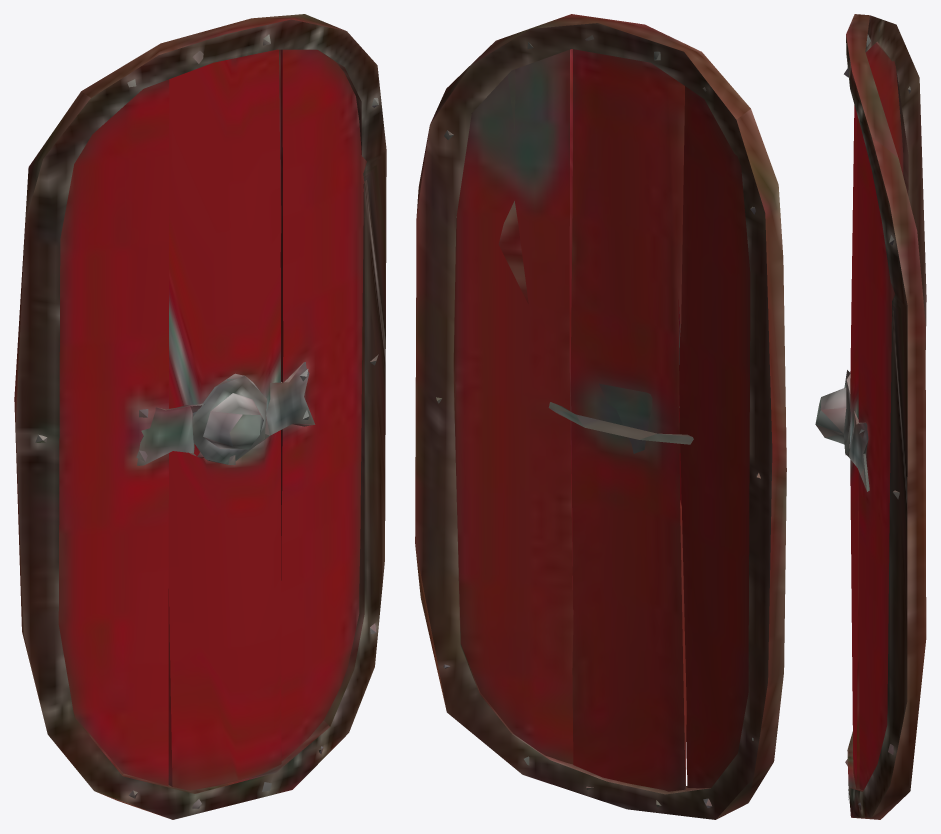
File: gear_roman_scutum_2.glb
3 renders of one model, left to right at view 1: azimuth 30°, elevation 25°; view 2: azimuth 150°, elevation 25°; view 3: azimuth 270°, elevation 25°, orthographic. The views are drawn at different scales.
Visible parts, largest first — view 1: MeshyGear_gear_roman_scutum; view 2: MeshyGear_gear_roman_scutum; view 3: MeshyGear_gear_roman_scutum.
Boxes of the visible parts, x1=… form: MeshyGear_gear_roman_scutum: x1=14, y1=14, x2=386, y2=819; MeshyGear_gear_roman_scutum: x1=415, y1=14, x2=786, y2=819; MeshyGear_gear_roman_scutum: x1=815, y1=14, x2=926, y2=819.
Size of the model in its own units: 0.5275 by 1.06 by 0.1421.
1 material, 1 textured.
